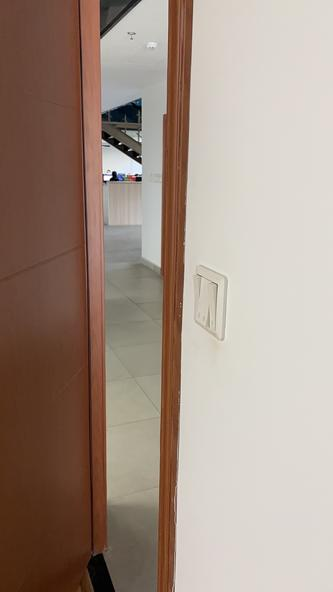switch: (190, 277, 216, 333)
